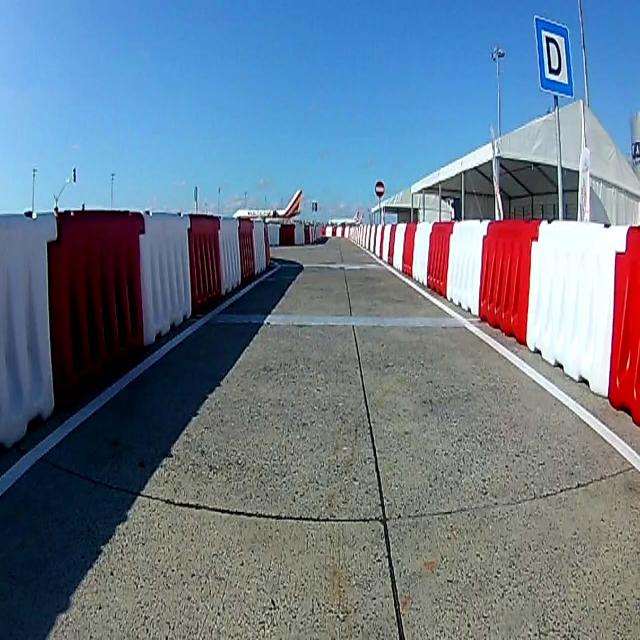durak: (533, 18, 573, 96)
girisyok: (374, 177, 386, 198)
